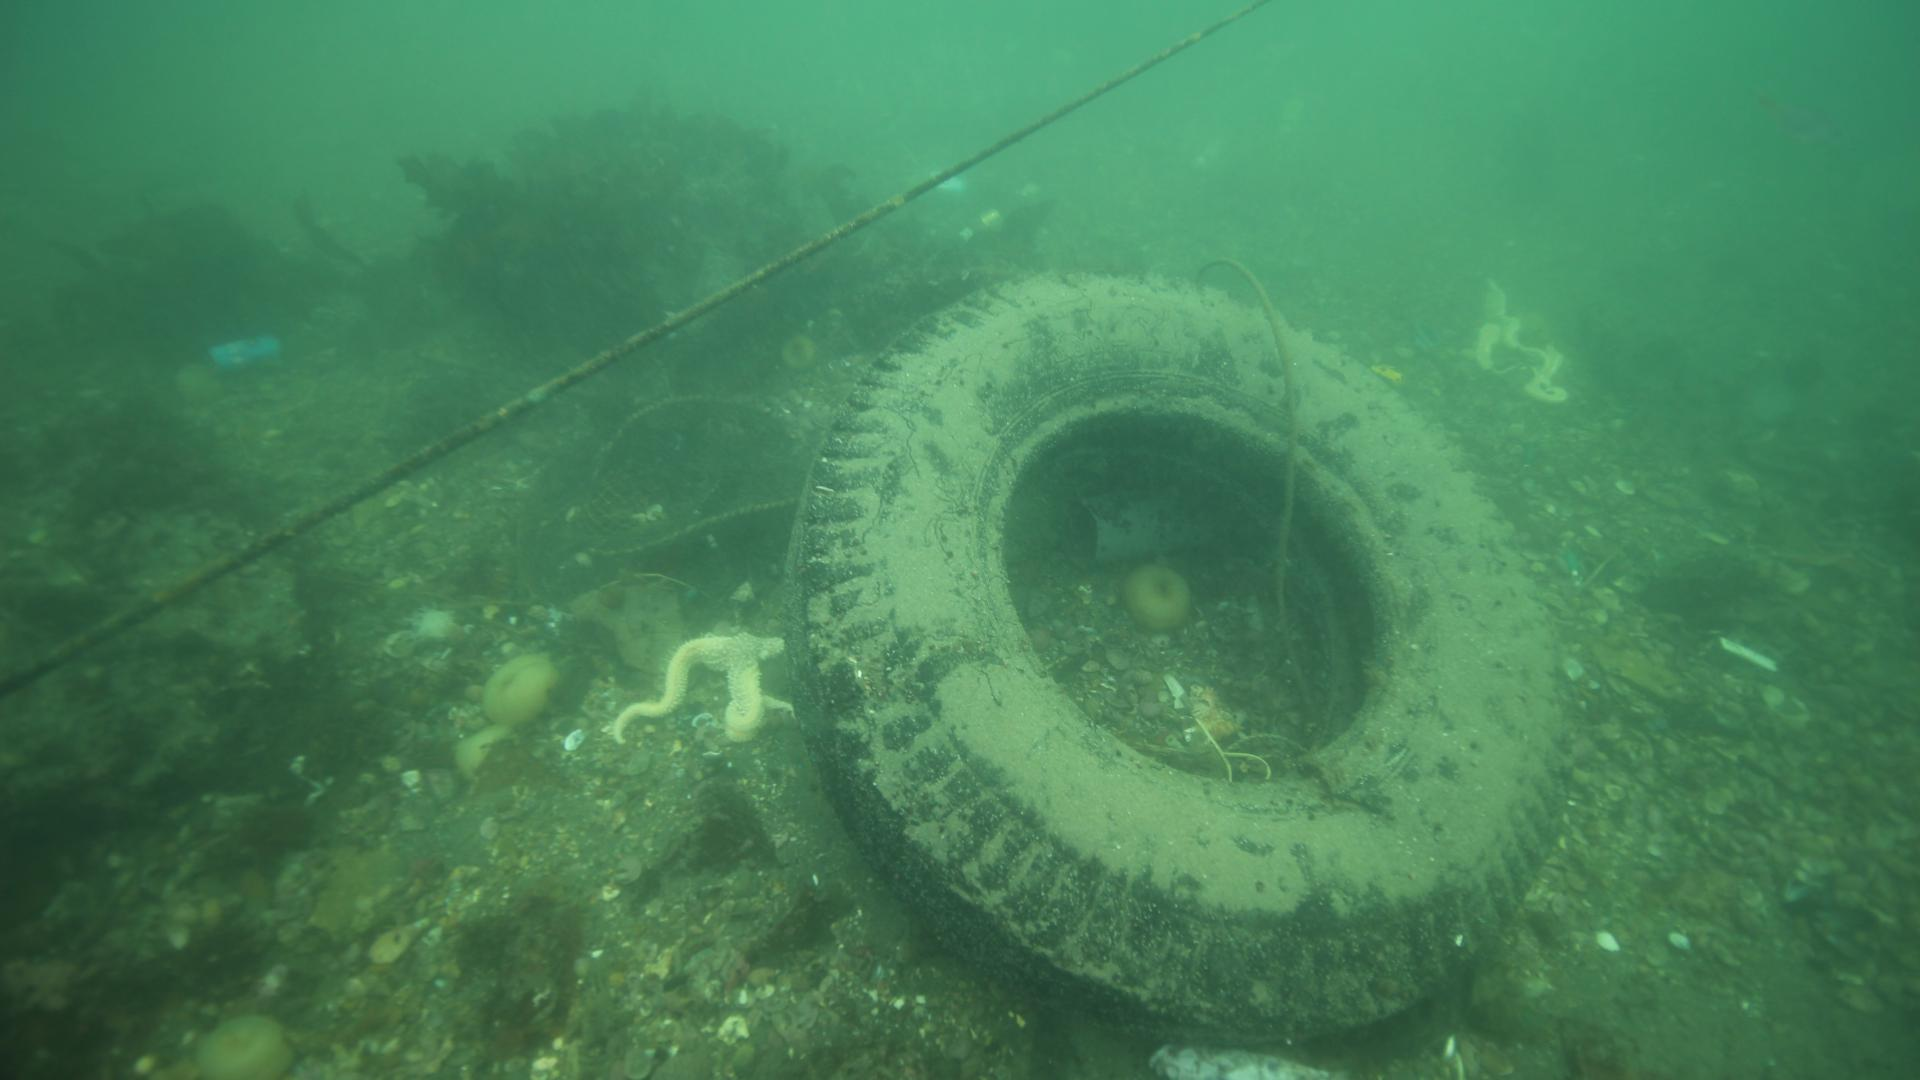rope: (1192, 255, 1307, 694)
tire: (781, 266, 1576, 1039)
